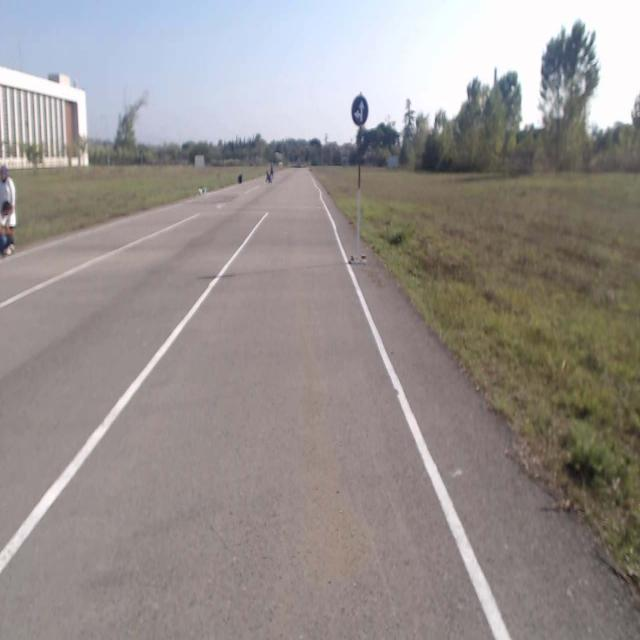ilerisol: (351, 97, 369, 126)
